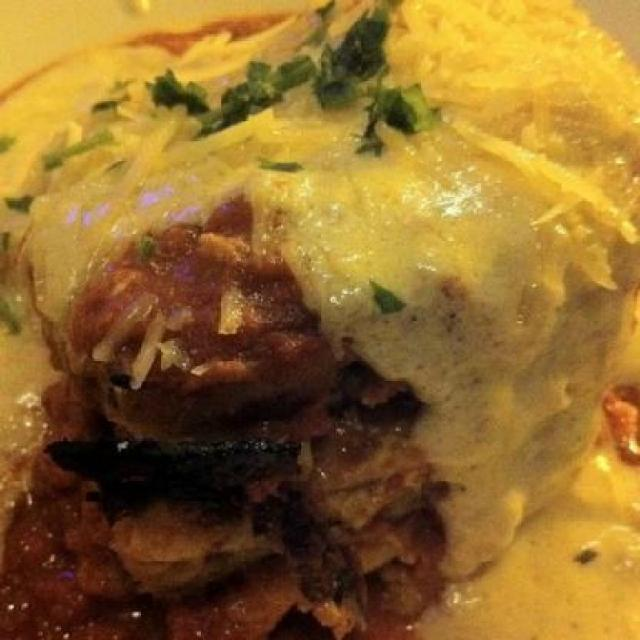Lasagna: (36, 16, 639, 587)
